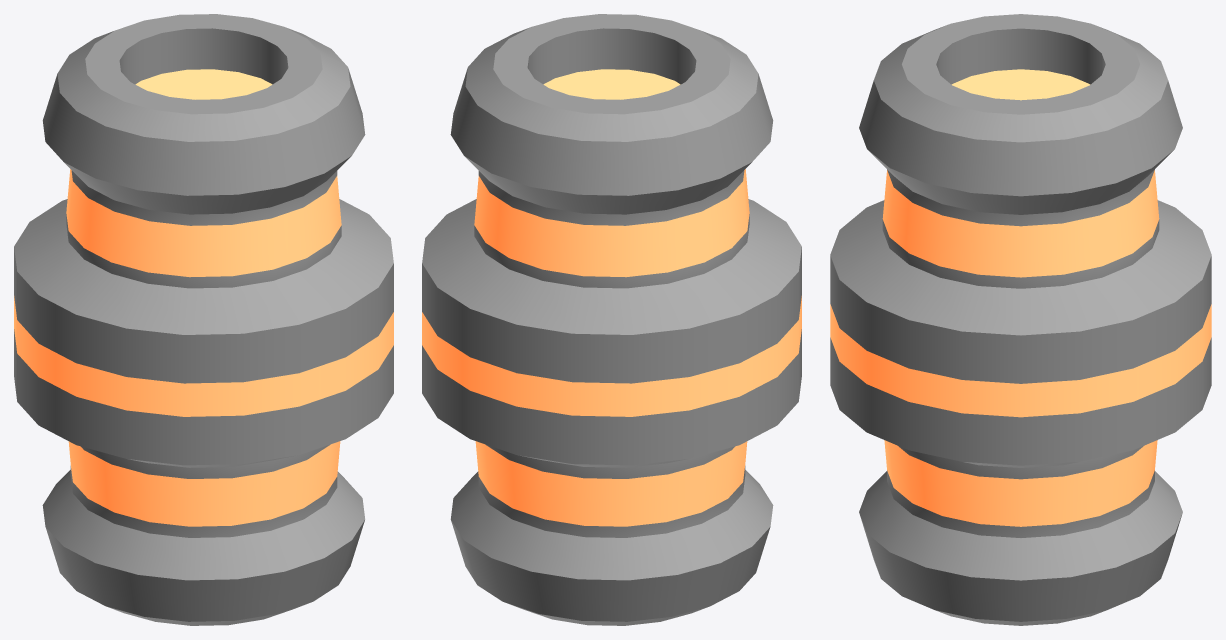
File: Grenade_1.fbx
The picture shows the model from 3 angles, left to right: view 1: azimuth 30°, elevation 25°; view 2: azimuth 150°, elevation 25°; view 3: azimuth 270°, elevation 25°; orthographic projection.
Visible parts, largest first — view 1: pCylinder5; view 2: pCylinder5; view 3: pCylinder5.
Part boxes in pixels (x1,y1,x2,y2): pCylinder5: (14, 14, 393, 625); pCylinder5: (422, 14, 801, 625); pCylinder5: (830, 14, 1211, 625).
Size of the model in its own units: 0.4643 by 0.6863 by 0.4643.
